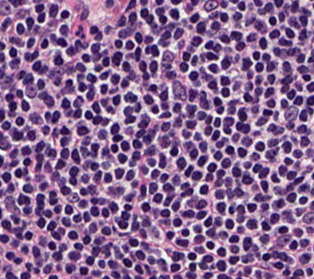nucleus: (173, 81, 185, 99), (112, 52, 121, 65), (186, 105, 196, 116), (242, 58, 251, 69), (30, 114, 41, 123), (238, 108, 246, 120), (72, 149, 79, 162), (231, 31, 241, 40), (163, 51, 172, 61), (10, 58, 19, 68), (23, 74, 32, 84), (26, 87, 35, 97), (44, 96, 53, 106), (145, 146, 155, 155), (174, 28, 182, 39), (125, 93, 136, 101), (74, 96, 82, 107), (77, 127, 88, 135), (161, 136, 169, 147), (189, 89, 196, 101), (189, 71, 198, 80), (35, 142, 44, 151), (118, 29, 128, 37), (269, 30, 279, 38), (91, 43, 99, 53), (221, 58, 229, 68), (125, 115, 135, 123), (98, 129, 106, 139), (159, 154, 165, 167), (151, 45, 158, 56), (92, 102, 99, 113), (52, 111, 59, 122), (161, 31, 170, 39), (192, 37, 201, 45), (57, 38, 66, 46), (54, 56, 62, 65), (32, 61, 40, 70), (76, 63, 85, 71), (208, 64, 217, 72), (87, 74, 96, 82), (111, 74, 119, 83), (265, 87, 273, 96), (144, 95, 153, 103), (61, 99, 69, 108), (200, 99, 208, 108), (197, 111, 206, 119), (93, 115, 101, 124), (138, 120, 147, 128), (136, 129, 145, 137), (27, 131, 35, 140), (13, 132, 22, 140), (242, 137, 251, 145), (255, 142, 264, 150), (259, 38, 266, 48), (139, 61, 146, 71), (150, 61, 157, 71), (37, 79, 44, 89), (160, 90, 167, 100), (22, 100, 29, 110), (256, 118, 266, 125), (111, 123, 118, 133), (273, 127, 283, 134), (80, 146, 87, 156), (206, 53, 217, 59), (135, 47, 140, 60), (247, 33, 255, 41), (236, 42, 244, 50), (66, 47, 74, 55), (221, 77, 229, 85), (78, 83, 86, 91), (161, 122, 169, 130), (182, 130, 190, 138), (143, 135, 151, 143), (82, 137, 90, 145), (133, 140, 141, 148), (22, 146, 30, 154), (238, 148, 246, 156), (118, 154, 126, 162), (220, 35, 229, 42), (27, 38, 34, 47), (9, 48, 16, 57), (102, 57, 109, 66), (267, 62, 274, 71), (166, 71, 175, 78), (113, 95, 120, 104), (186, 121, 195, 128), (1, 122, 10, 129), (204, 126, 211, 135), (268, 139, 277, 146), (121, 141, 128, 150), (199, 142, 206, 151), (61, 149, 68, 158), (190, 149, 197, 158), (132, 151, 139, 160), (135, 33, 141, 43), (160, 112, 170, 118), (126, 41, 133, 49), (180, 63, 187, 71), (256, 63, 263, 71), (100, 72, 108, 79), (208, 81, 216, 88), (222, 88, 229, 96), (244, 93, 251, 101), (9, 102, 16, 110), (124, 107, 131, 115), (74, 109, 81, 117), (16, 117, 23, 125), (225, 118, 233, 125), (242, 124, 249, 132), (268, 124, 276, 131), (42, 126, 49, 134), (60, 127, 68, 134), (212, 131, 219, 139), (60, 137, 67, 145), (226, 146, 233, 154), (170, 147, 177, 155), (10, 149, 17, 157), (266, 151, 274, 158), (191, 55, 197, 64), (123, 62, 129, 71), (101, 84, 107, 93), (87, 90, 93, 99), (263, 109, 272, 115), (113, 135, 122, 141), (145, 36, 152, 43), (205, 41, 212, 48), (273, 48, 280, 55), (82, 54, 89, 61), (6, 94, 13, 101), (214, 98, 221, 105), (267, 100, 274, 107), (173, 104, 180, 111), (228, 106, 235, 113), (85, 111, 92, 118), (101, 118, 108, 125), (232, 134, 239, 141), (1, 141, 8, 148), (185, 142, 192, 149), (91, 144, 98, 151), (48, 149, 55, 156), (214, 152, 221, 159), (95, 32, 101, 40), (41, 39, 47, 47), (183, 52, 189, 60), (268, 75, 274, 83), (255, 76, 261, 84), (255, 87, 261, 95), (175, 118, 181, 126), (214, 118, 220, 126), (111, 144, 117, 152), (251, 153, 259, 159), (115, 40, 121, 47), (214, 44, 220, 51), (253, 52, 259, 59), (25, 53, 31, 60), (40, 66, 46, 73), (18, 71, 24, 78), (66, 79, 72, 86), (121, 80, 128, 86), (246, 82, 252, 89), (39, 92, 46, 98), (152, 105, 158, 112), (252, 105, 258, 112), (217, 106, 223, 113), (236, 122, 242, 129), (36, 154, 42, 161), (160, 40, 168, 45), (32, 51, 37, 59), (200, 91, 205, 99), (0, 110, 4, 120), (206, 115, 211, 123), (75, 41, 81, 47), (263, 54, 269, 60), (143, 73, 149, 79), (77, 74, 83, 80), (65, 109, 71, 115), (224, 127, 230, 133), (194, 133, 200, 139), (247, 71, 252, 78), (234, 83, 239, 90), (149, 85, 156, 90), (17, 90, 22, 97), (135, 104, 140, 111), (45, 112, 50, 119), (103, 147, 108, 154), (0, 53, 4, 61), (145, 47, 150, 53), (95, 66, 101, 71), (101, 99, 106, 105), (162, 104, 168, 109), (216, 142, 222, 147), (0, 42, 4, 49), (54, 79, 59, 84), (107, 107, 112, 112), (179, 41, 183, 47), (129, 72, 133, 78), (53, 129, 56, 136), (94, 55, 99, 59), (274, 112, 277, 118), (1, 71, 3, 78)
